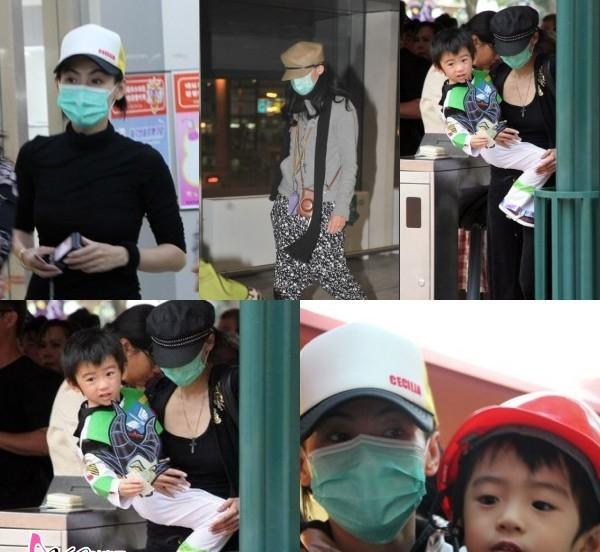NONE: (468, 471, 580, 552), (78, 362, 119, 405), (40, 336, 71, 371), (444, 53, 474, 81), (414, 33, 436, 60)
OK: (303, 402, 439, 538), (57, 66, 114, 126), (162, 334, 217, 389), (501, 31, 543, 72), (290, 63, 326, 98)
